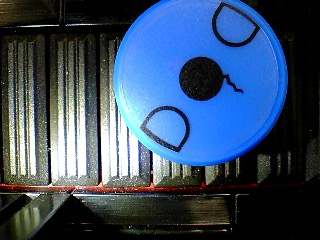CRACK: (113, 1, 289, 166)
